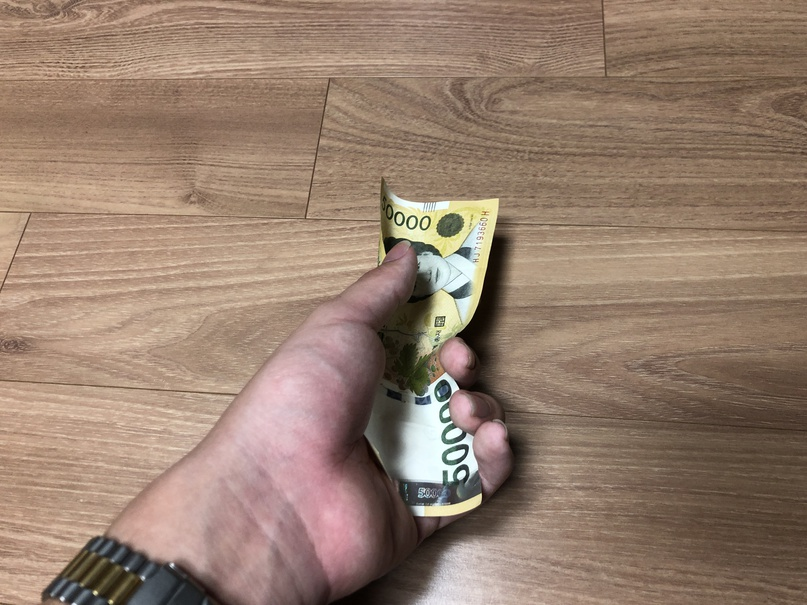50000won: (366, 178, 500, 517)
